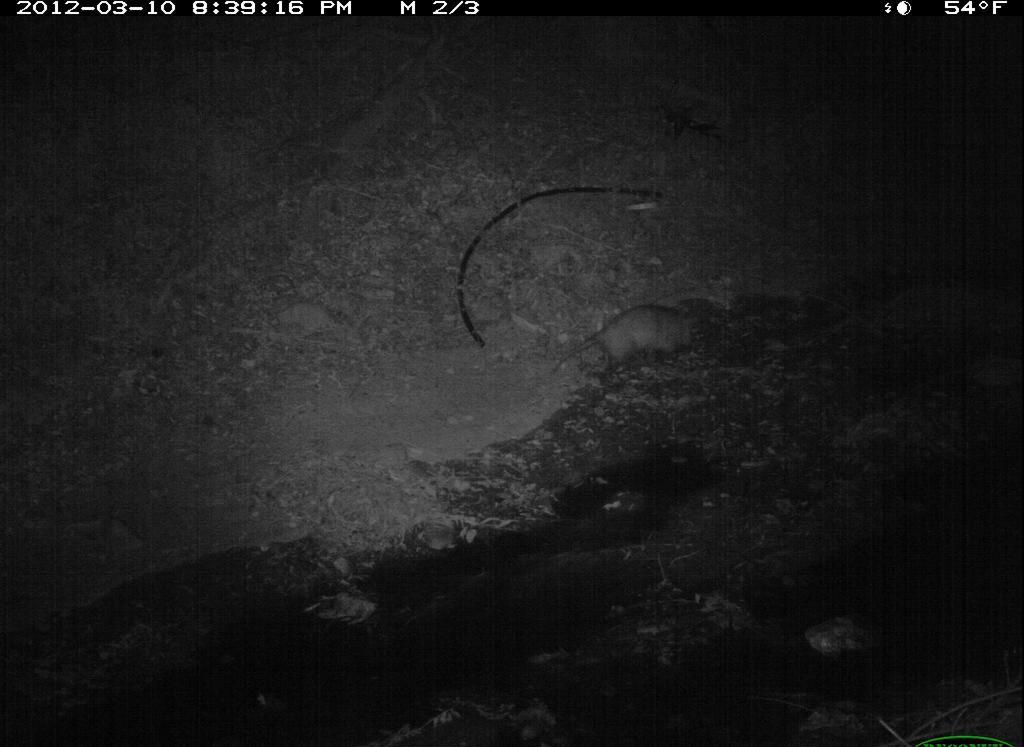opossum: (543, 301, 712, 378)
